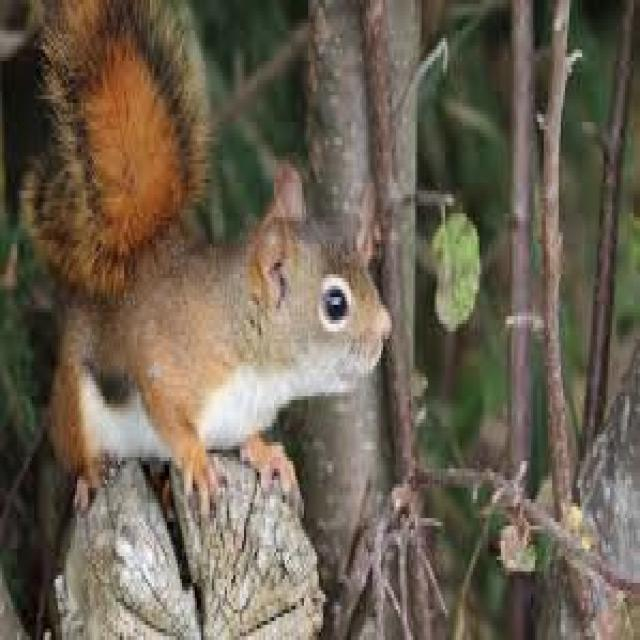squirrel: (21, 0, 390, 510)
